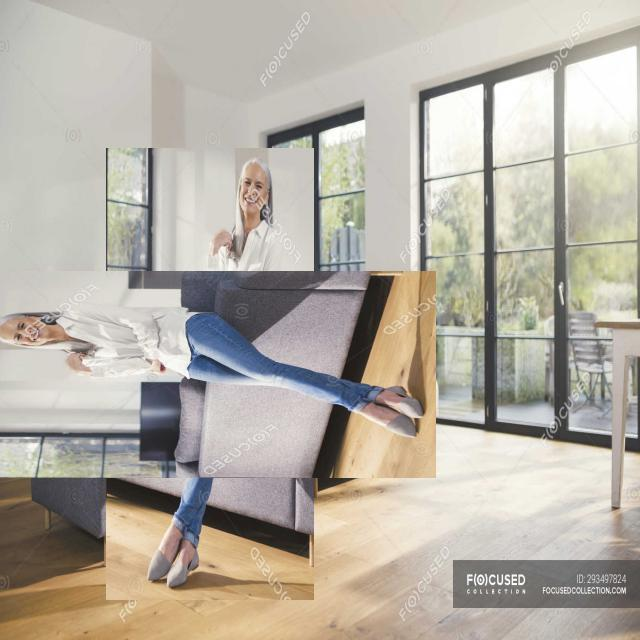NotFall: (0, 219, 422, 487)
